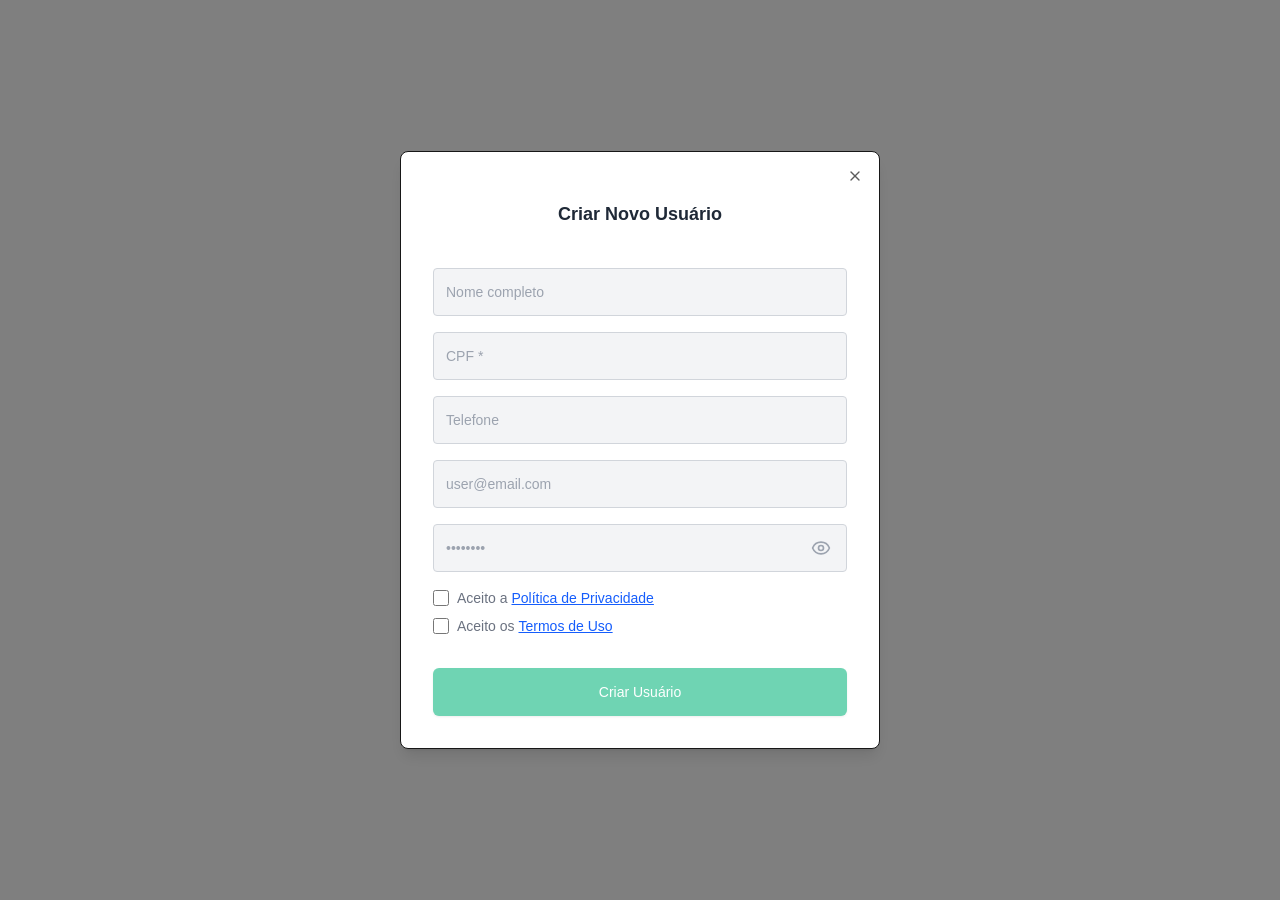
it: User Registration Flow - Integration › handles validation errors during registration
Check: the button "Criar Usuário" is disabled, box [433, 668, 847, 716]
# Fill only email, no password or CPF - button should still be disabled
Step 1. Type "test@example.com" into the field with placeholder "user@email.com" → point(640, 484), box [433, 460, 847, 508]
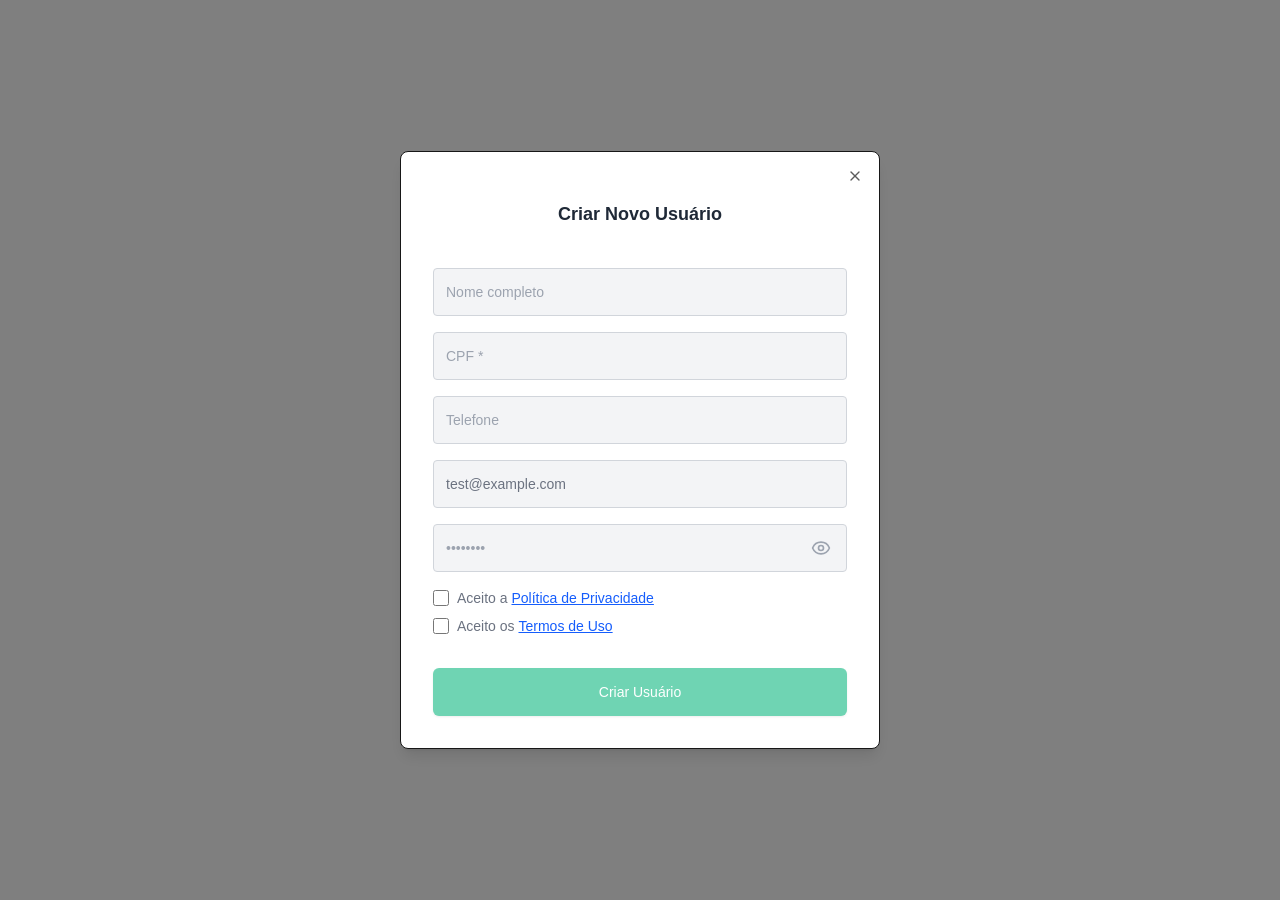
Check: the button "Criar Usuário" is disabled, box [433, 668, 847, 716]
# Fill password but no CPF - button should still be disabled
Step 2. Type "password123" into the password field with placeholder "••••••••" → point(640, 548), box [433, 524, 847, 572]
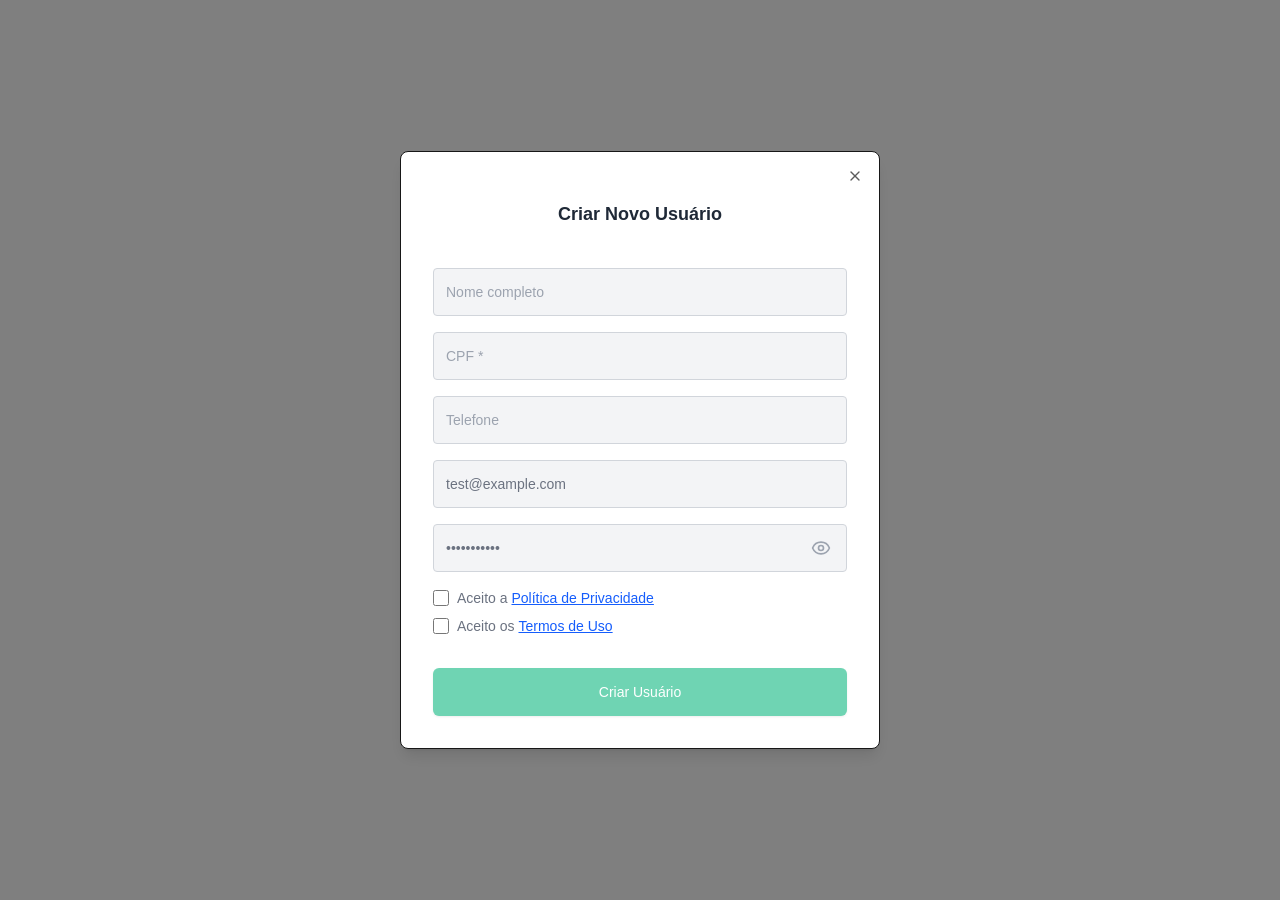
Check: the button "Criar Usuário" is disabled, box [433, 668, 847, 716]
# Fill CPF but no checkboxes - button should still be disabled
Step 3. Type "123.456.789-01" into the field with placeholder "CPF *" → point(640, 356), box [433, 332, 847, 380]
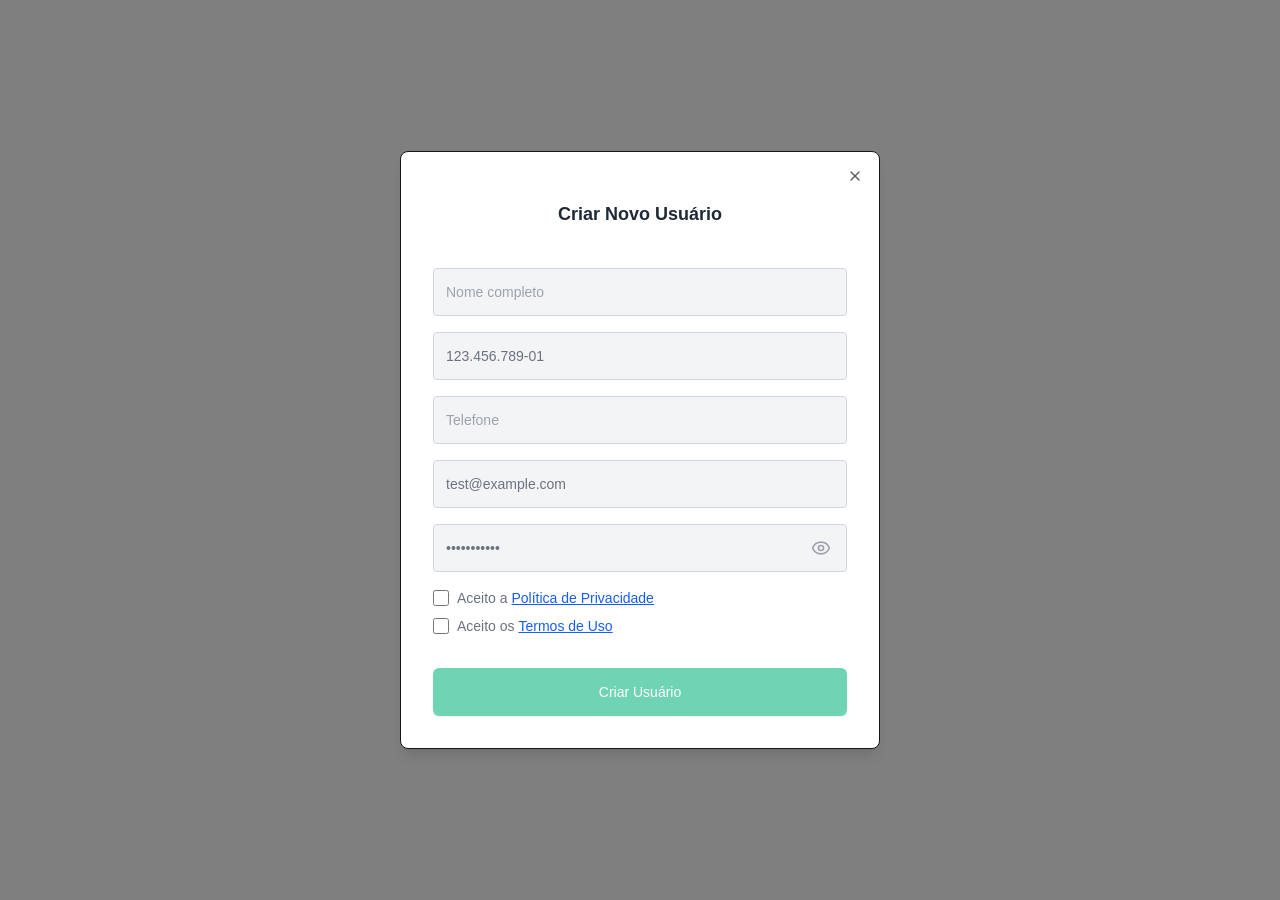
Check: the button "Criar Usuário" is disabled, box [433, 668, 847, 716]
# Check privacy policy but not terms - button should still be disabled
Step 4. Click the checkbox labelled "Aceito a Política de Privacidade" → point(441, 598), box [433, 590, 449, 606]
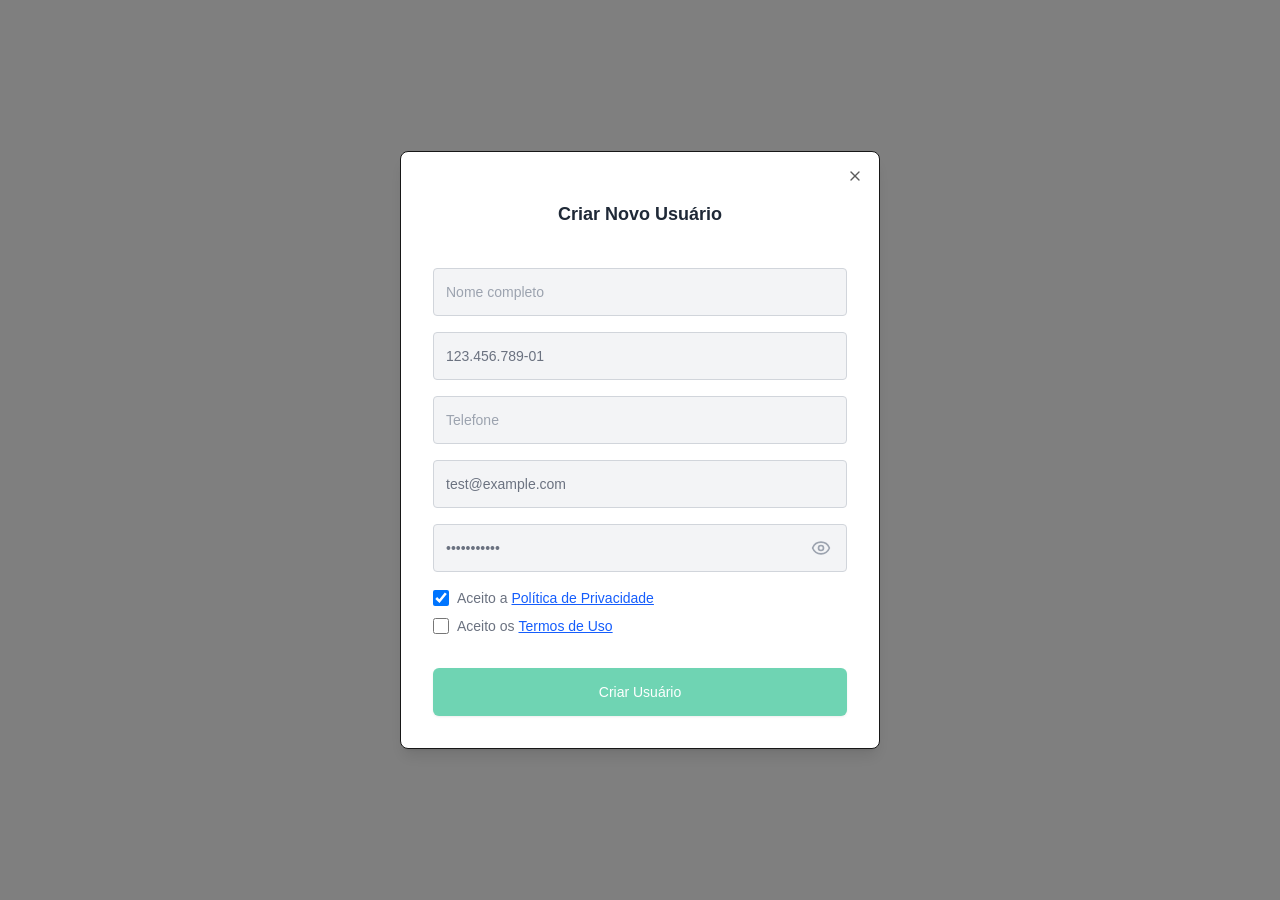
Check: the button "Criar Usuário" is disabled, box [433, 668, 847, 716]
# Check terms - now button should be enabled
Step 5. Click the checkbox labelled "Aceito os Termos de Uso" → point(441, 626), box [433, 618, 449, 634]
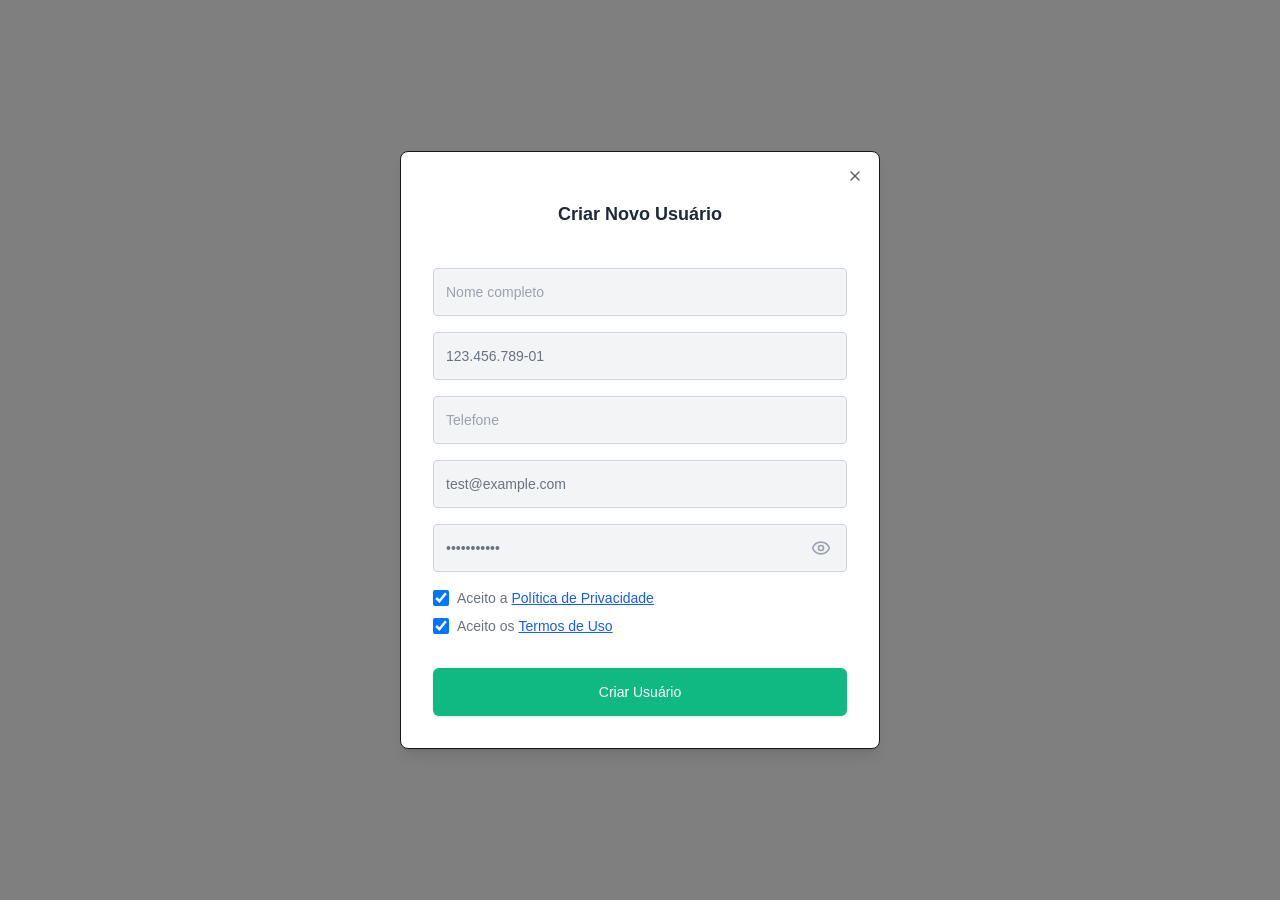
Check: the button "Criar Usuário" is enabled
# Now try to submit with all required fields filled
Step 6. Click the button "Criar Usuário" → point(640, 692), box [433, 668, 847, 716]
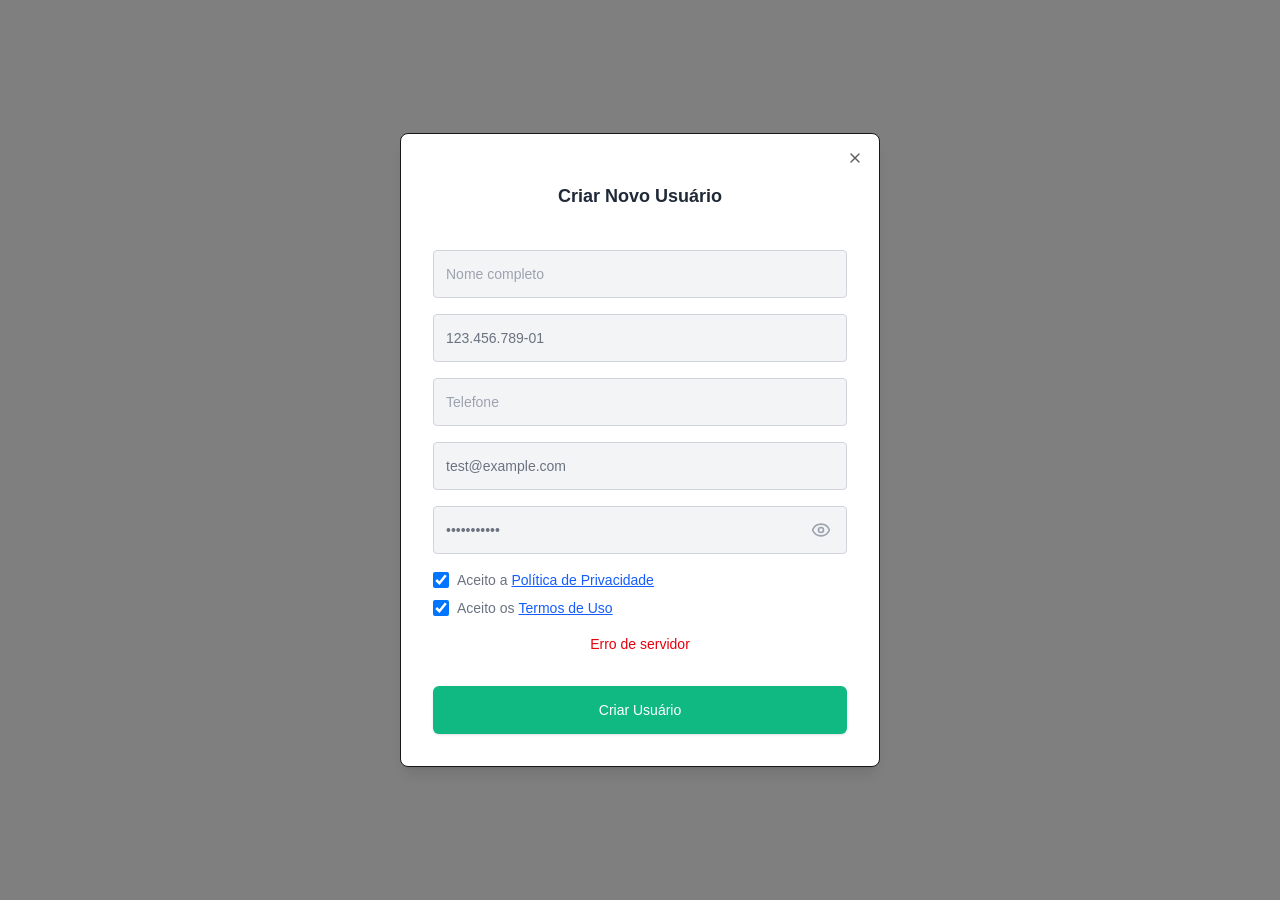
Check: the text "Erro de servidor" is shown, box [590, 636, 690, 652]
